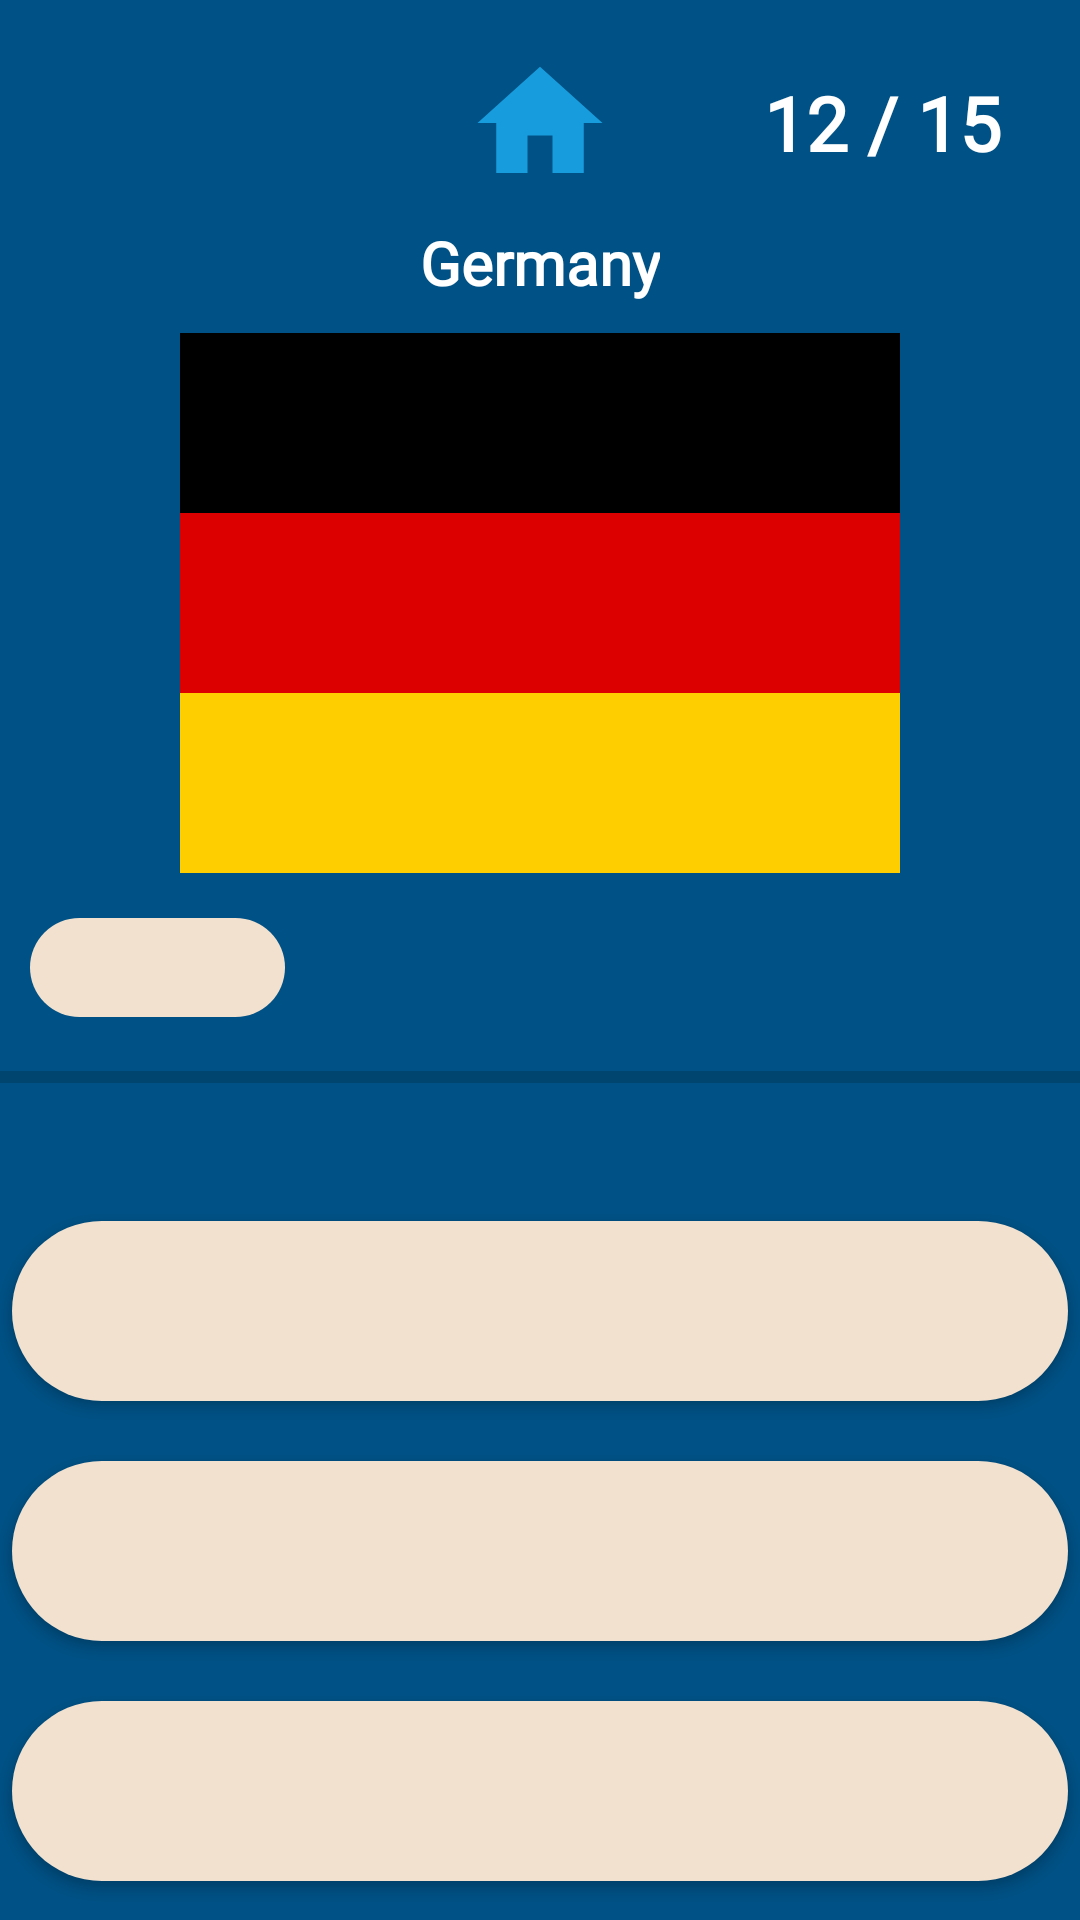

Named icons in this screenshot (1080px×1920px) and their centers, (x=x, y=y):
home: (x=540, y=120)
